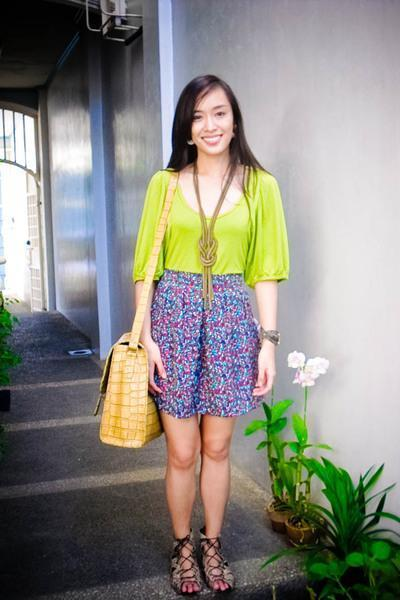bag: (100, 332, 167, 447)
shirt: (133, 164, 288, 288)
shoe: (172, 523, 220, 580)
skirt: (132, 269, 266, 425)
